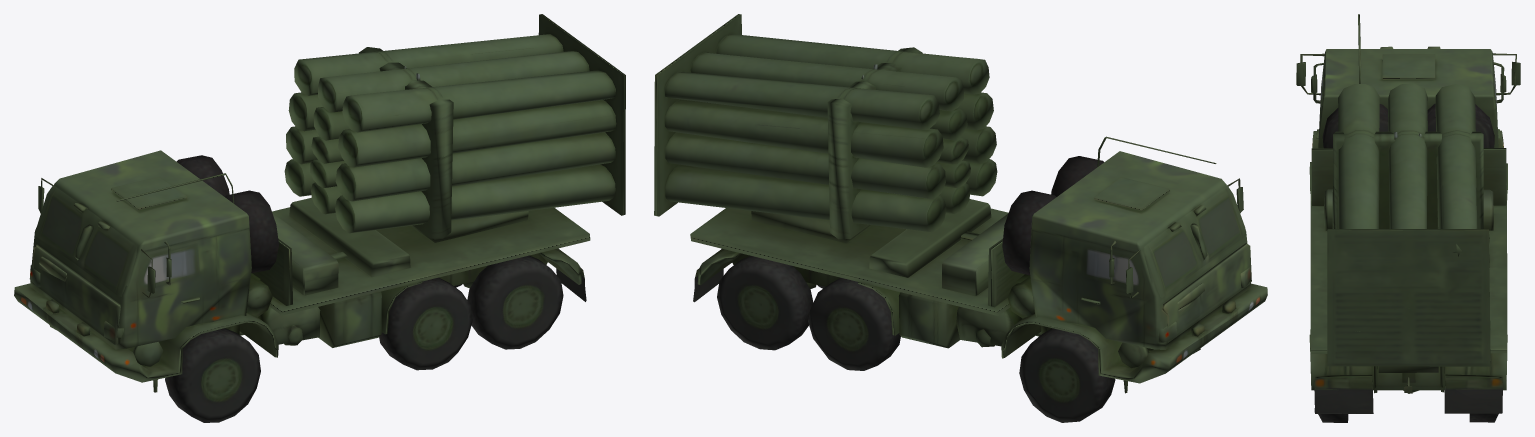
File: cn-phl-03.glb
3 renders of one model, left to right at view 1: azimuth 30°, elevation 25°; view 2: azimuth 150°, elevation 25°; view 3: azimuth 270°, elevation 25°, orthographic. The views are drawn at different scales.
Visible parts, largest first — view 1: geometry_0; view 2: geometry_0; view 3: geometry_0.
Boxes of the visible parts, box(x1,y1,x2,y2) form: geometry_0: box(14, 14, 625, 422); geometry_0: box(654, 14, 1267, 422); geometry_0: box(1296, 14, 1520, 422).
Size of the model in its own units: 1 by 0.5018 by 0.3846.
1 material, 1 textured.
